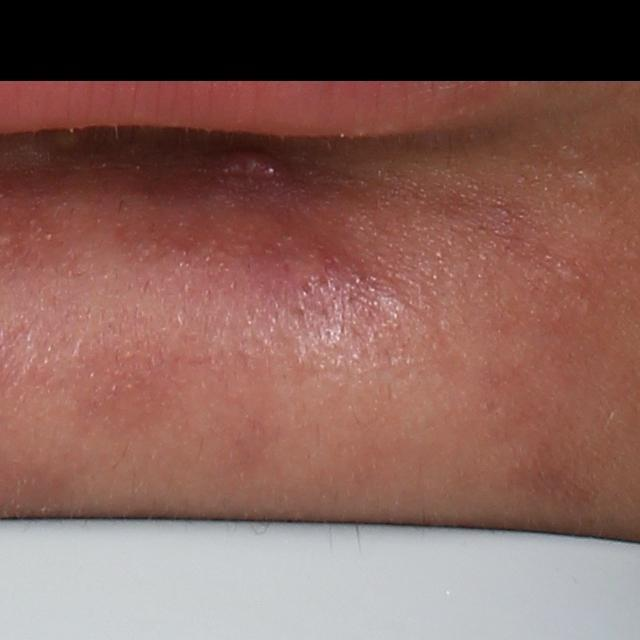papule: (199, 143, 307, 196)
